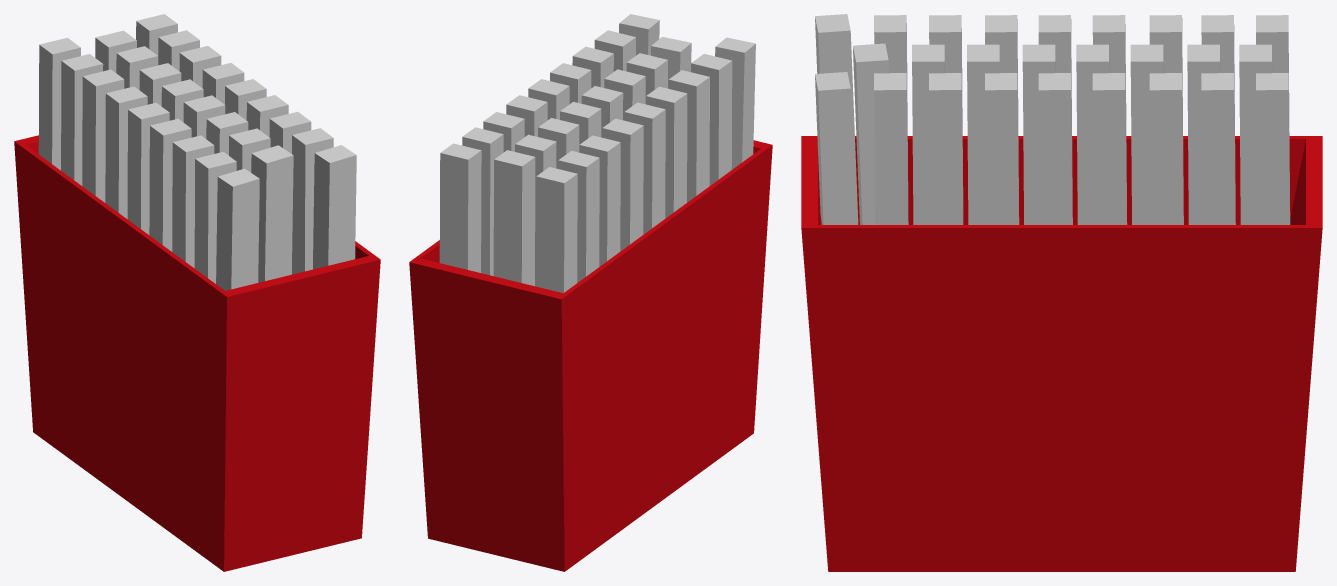
The model's file is BatataFrita.fbx.
3 views of the same model, side by side, from view 1: azimuth 30°, elevation 25°; view 2: azimuth 150°, elevation 25°; view 3: azimuth 270°, elevation 25° (orthographic). The views are drawn at different scales.
Parts seen in each view (by area): view 1: Cube; view 2: Cube; view 3: Cube.
Boxes of the visible parts, x1,y1,x2,y2 form: Cube: (14,14,380,571); Cube: (409,14,772,571); Cube: (801,14,1322,571).
Size of the model in its own units: 165 by 399 by 395.
